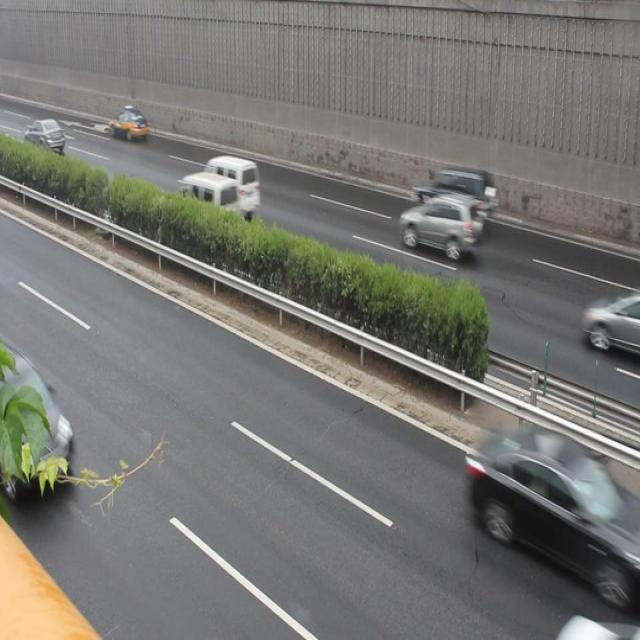car: (468, 422, 625, 595), (1, 352, 76, 506), (413, 170, 495, 234), (398, 196, 478, 260), (582, 292, 640, 364), (108, 110, 150, 142)
truck: (172, 173, 239, 241), (193, 157, 261, 213)
